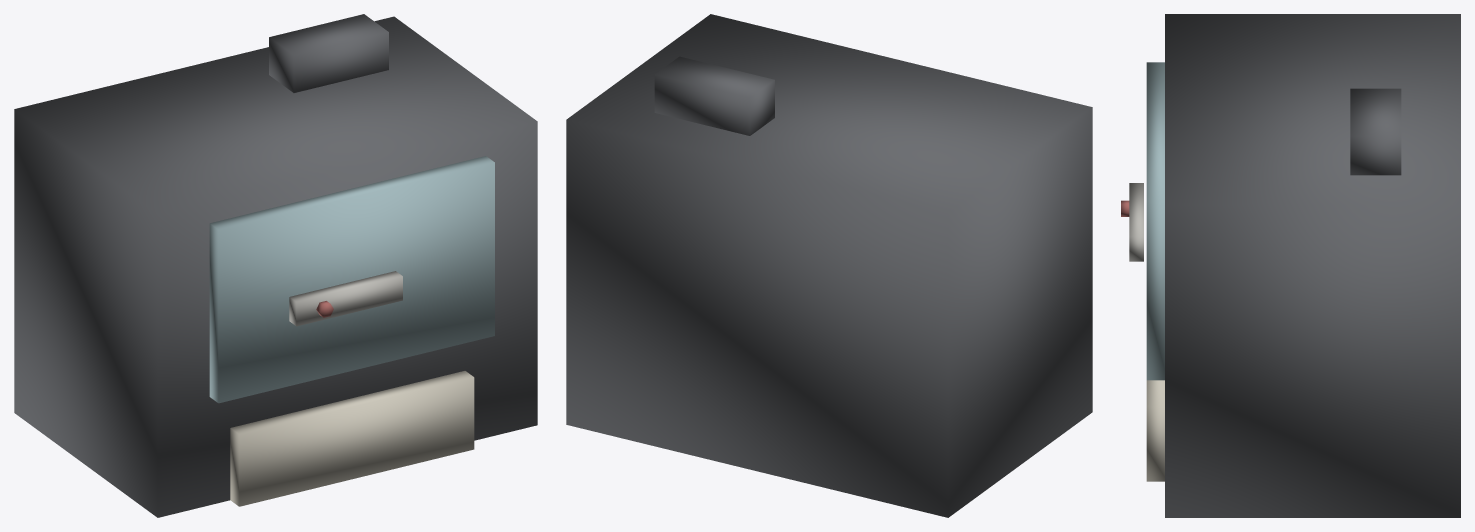
File: flat_monitor__service.glb
3 views of the same model, side by side, from view 1: azimuth 30°, elevation 25°; view 2: azimuth 150°, elevation 25°; view 3: azimuth 270°, elevation 25° (orthographic). The views are drawn at different scales.
Parts seen in each view (by area): view 1: world; view 2: world; view 3: world.
Part boxes in pixels (x1,y1,x2,y2): world: (14, 14, 537, 517); world: (566, 14, 1092, 517); world: (1121, 14, 1460, 517).
Bounding box in the file's own units: 0.55 × 0.4725 × 0.4135.
